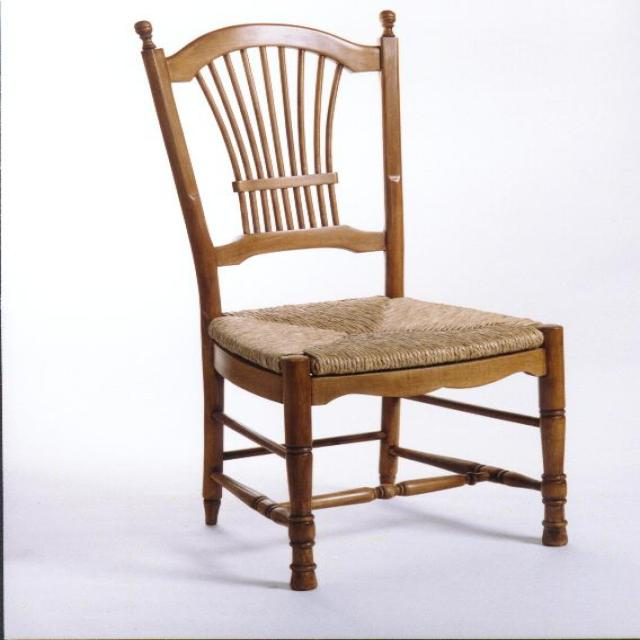chair: (133, 9, 569, 591)
